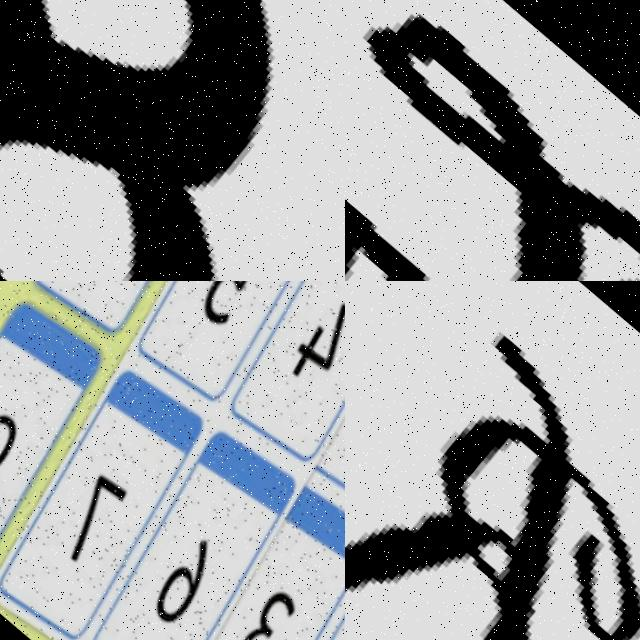3: (197, 575, 309, 640)
4: (257, 281, 345, 398)
5: (167, 281, 287, 336)
6: (117, 517, 236, 634)
7: (27, 457, 144, 572)
8: (0, 0, 345, 281)
9: (0, 394, 42, 516)
G: (345, 0, 640, 281)
R: (345, 328, 640, 640)
